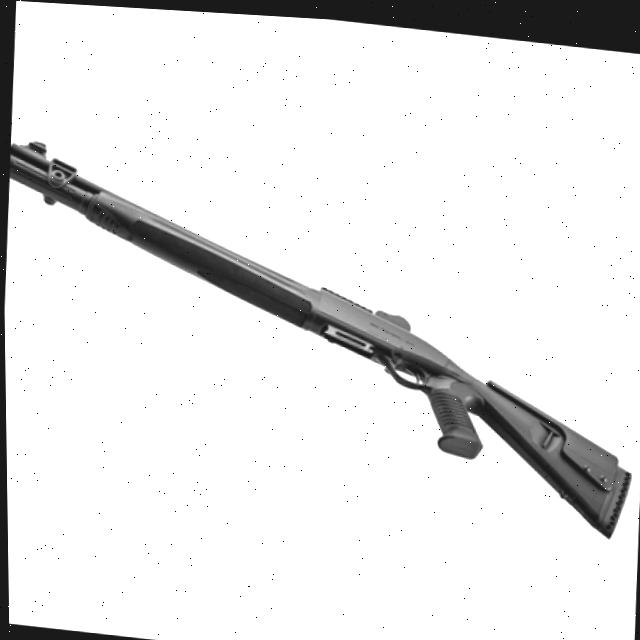firearm: (2, 136, 640, 534)
